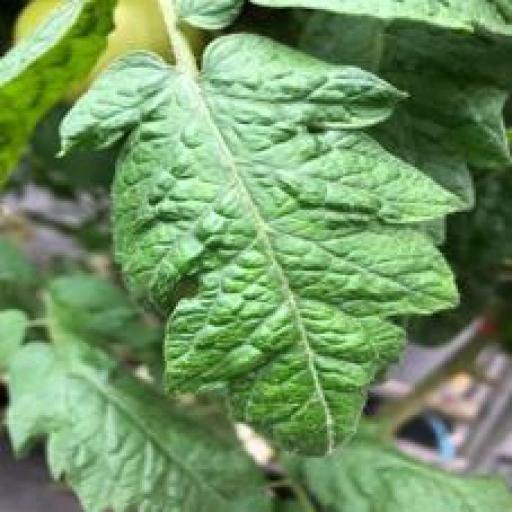Healthy: (53, 29, 466, 467), (2, 333, 280, 512)
